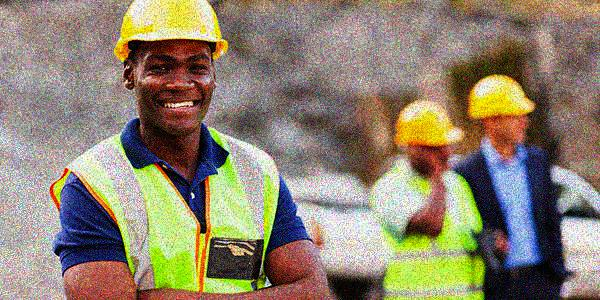helmet: (110, 1, 231, 139), (392, 97, 465, 171), (469, 73, 537, 147)
